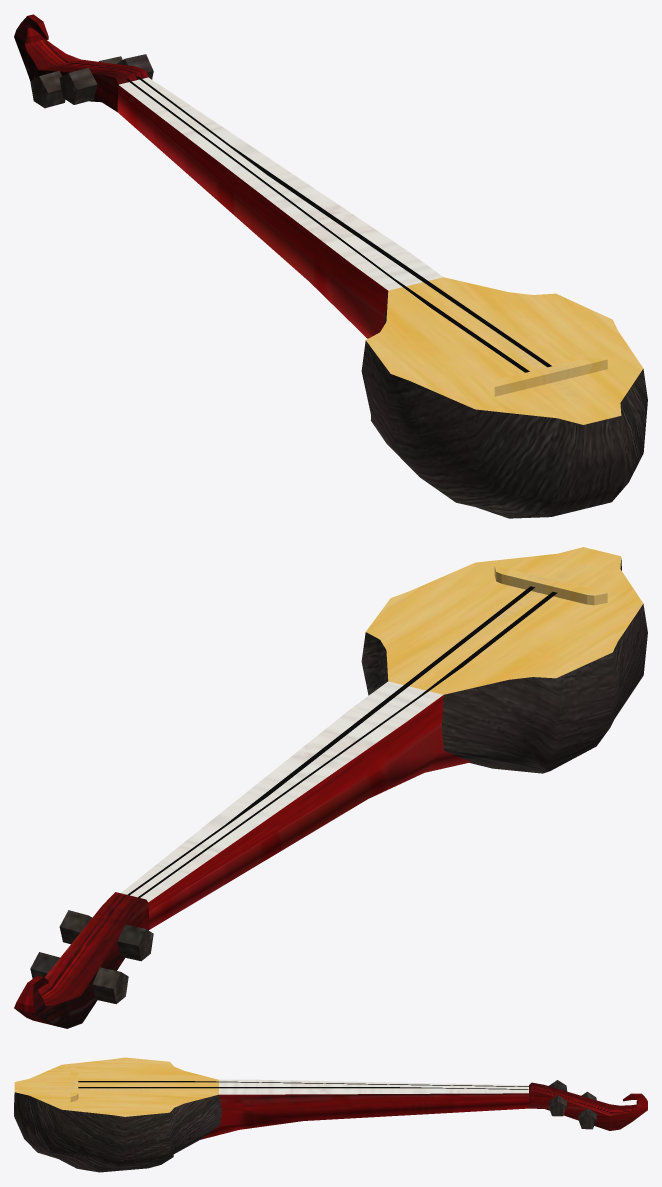
Rendered from Dotara.fbx.
3 views of the same model, one above another, from view 1: azimuth 30°, elevation 25°; view 2: azimuth 150°, elevation 25°; view 3: azimuth 270°, elevation 25° (orthographic). The views are drawn at different scales.
Parts seen in each view (by area): view 1: DoTara; view 2: DoTara; view 3: DoTara.
Part boxes in pixels (x1,y1,x2,y2): DoTara: (14, 14, 647, 518); DoTara: (14, 547, 647, 1028); DoTara: (14, 1057, 647, 1172).
Size of the model in its own units: 0.106 by 0.0641 by 0.4616.
1 material, 1 textured.
